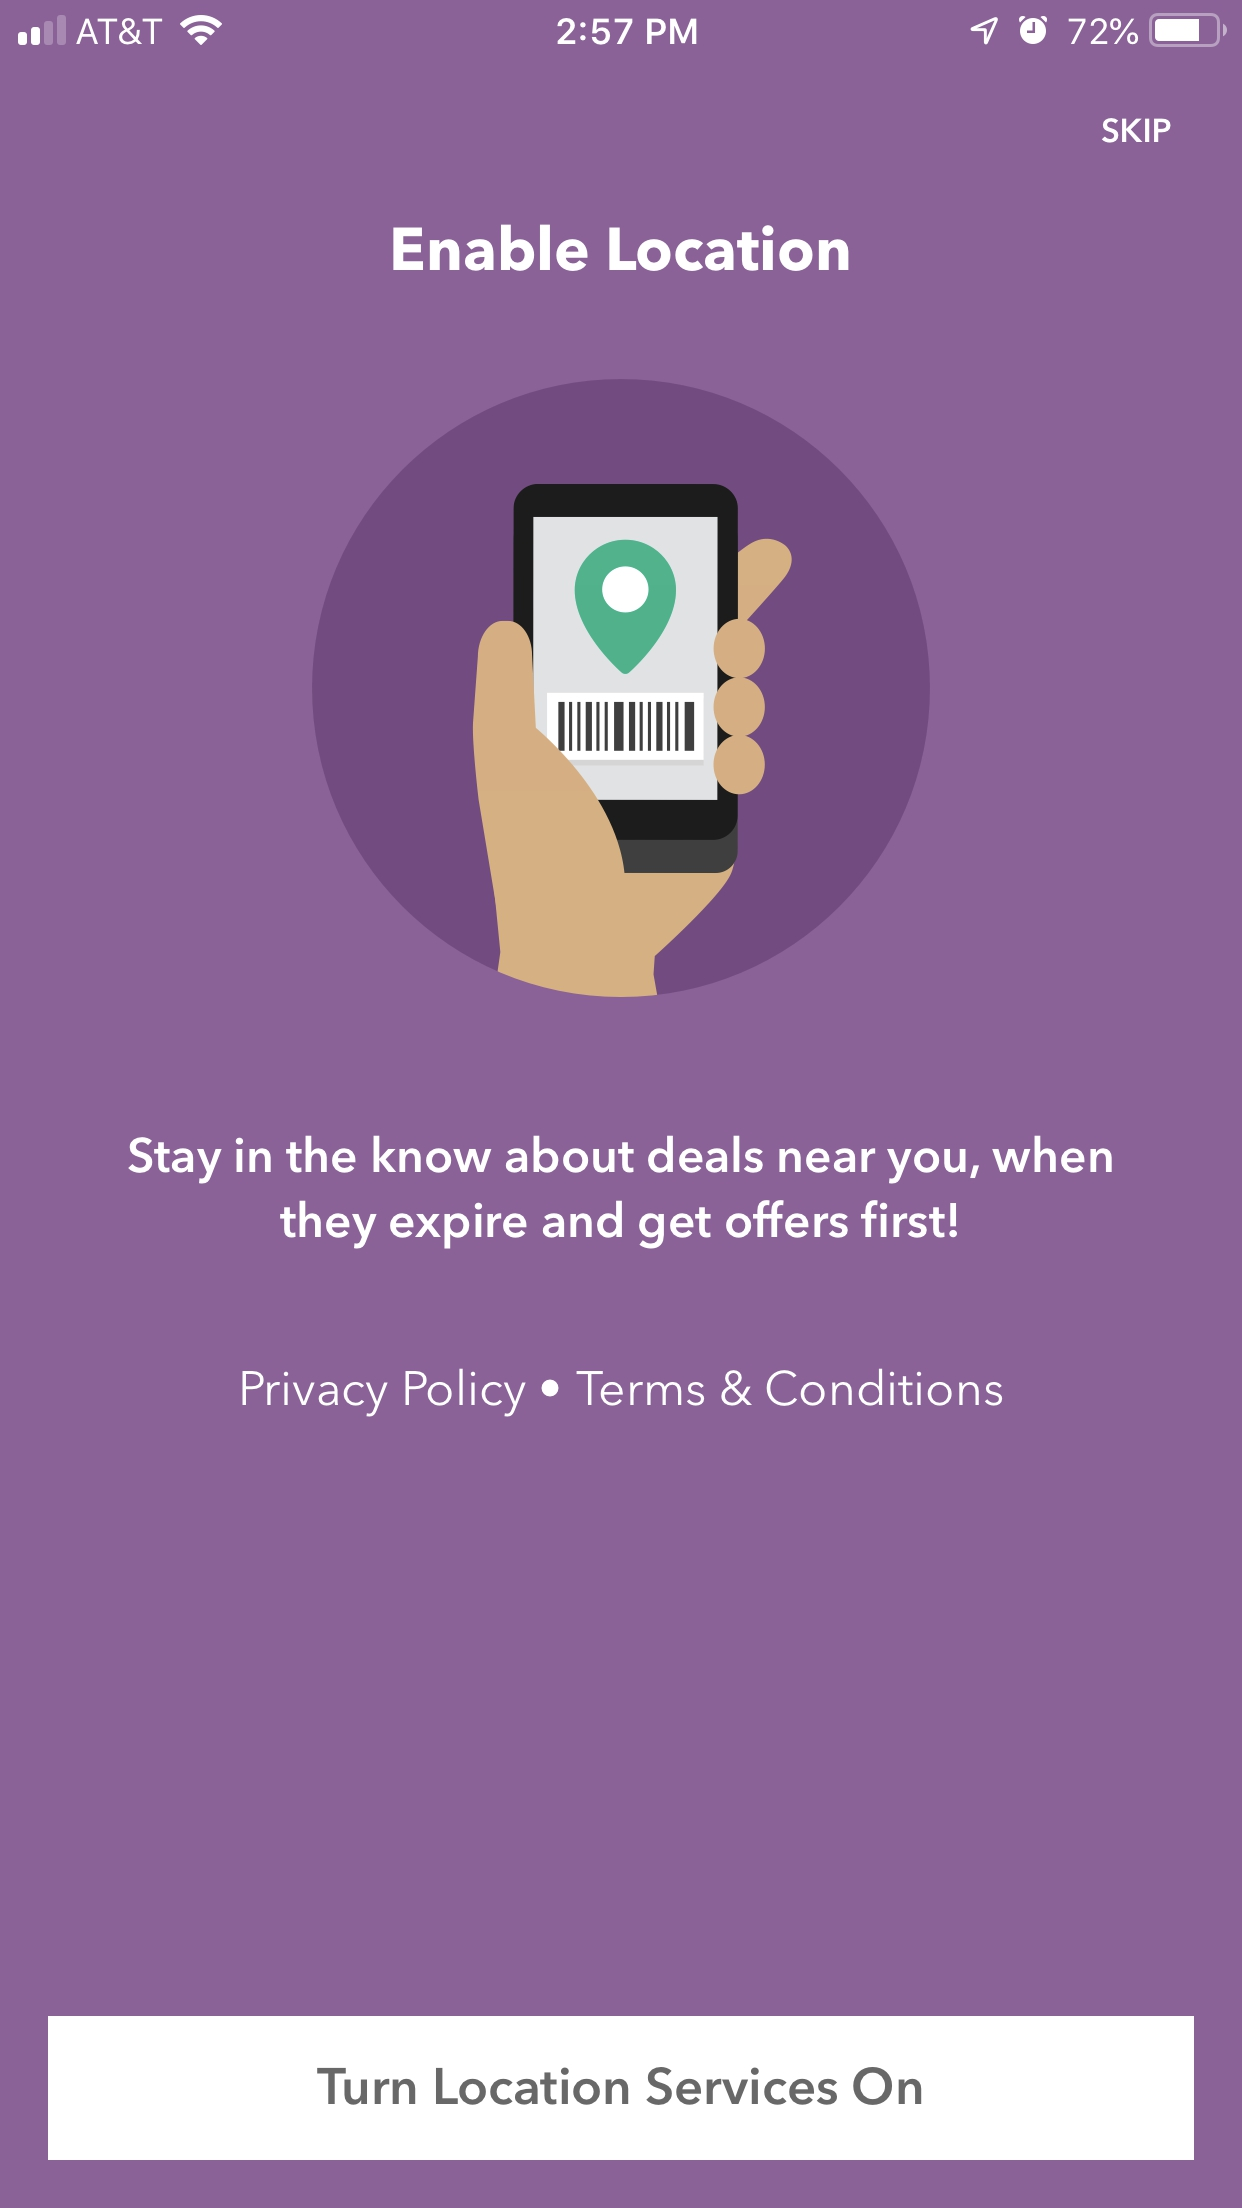Image: (312, 379, 931, 999)
Text: (127, 1134, 1113, 1250), (241, 1366, 1002, 1418), (391, 224, 851, 273), (1101, 118, 1172, 146)
TextButton: (49, 2015, 1195, 2161)
UpperTaskBar: (2, 2, 1242, 49)
